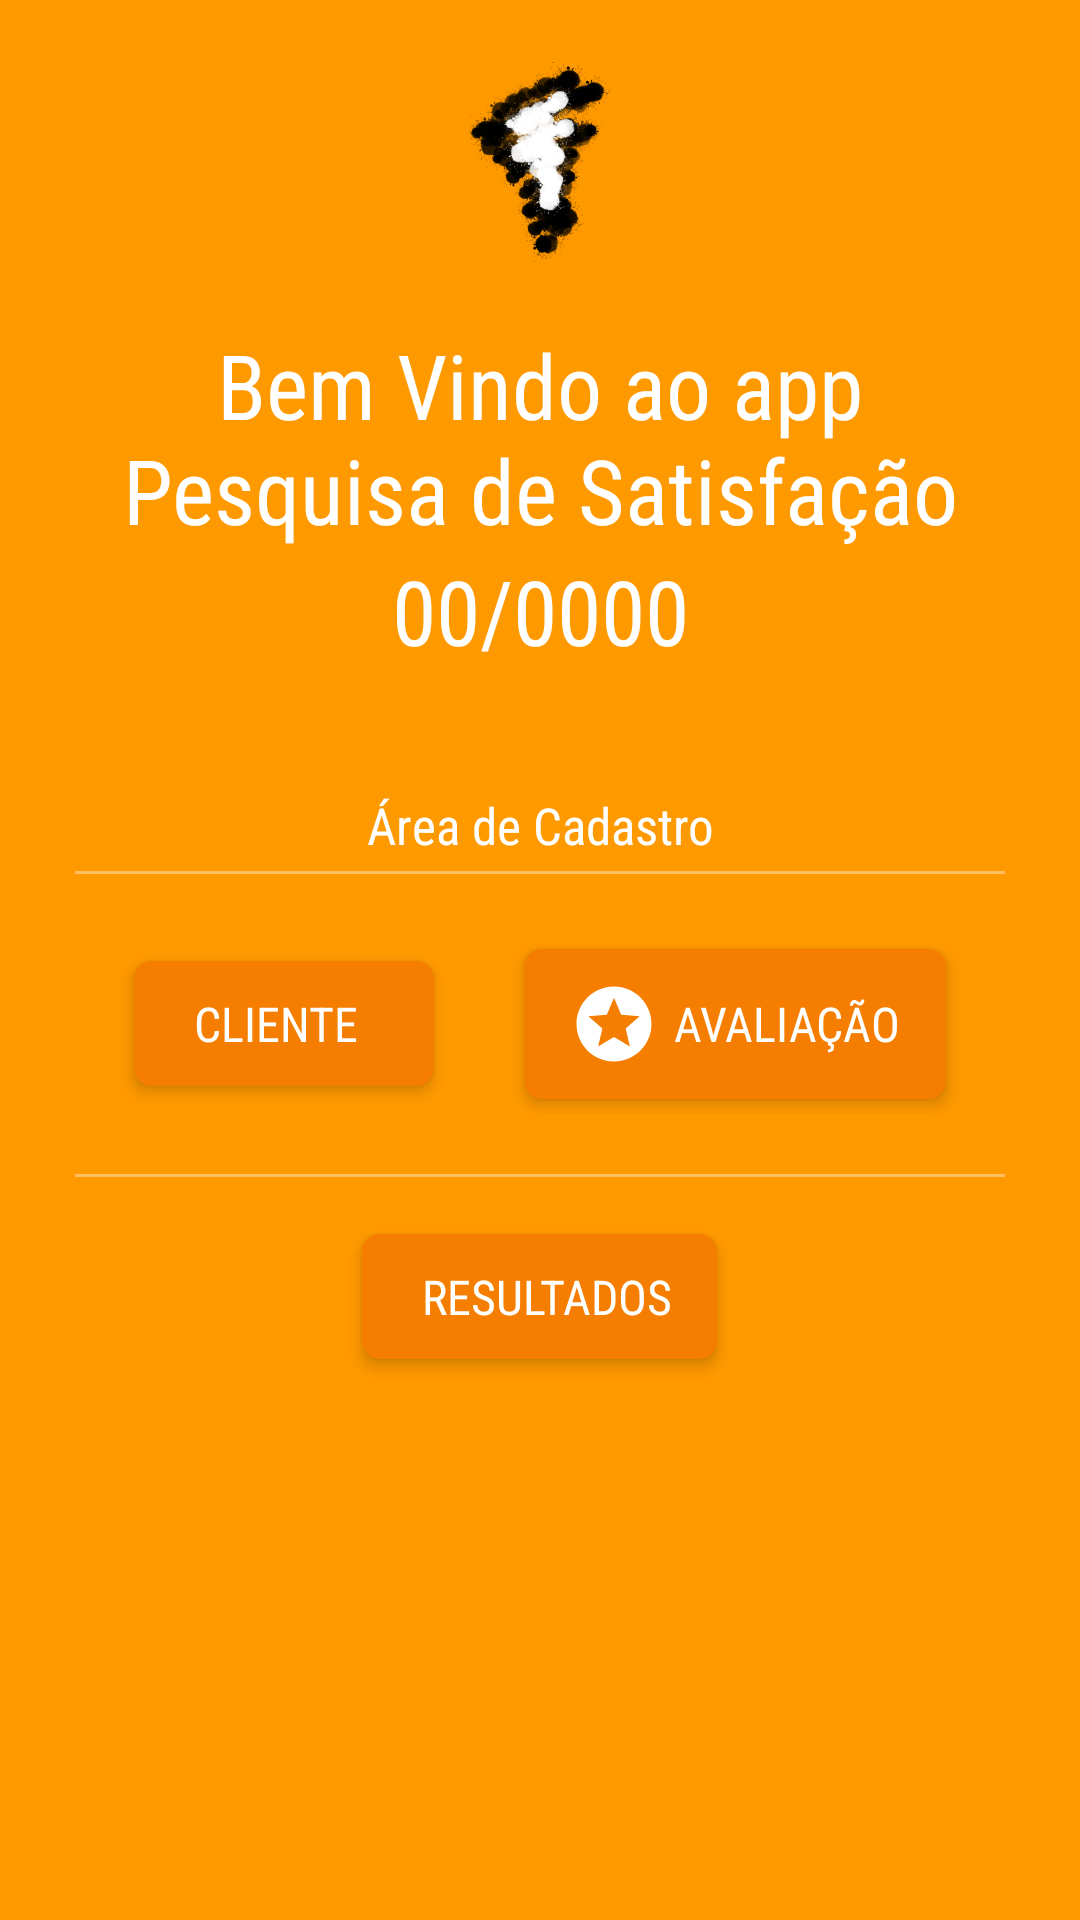

Icon click points for this 1080px×1920px phone screenshot, format (x,y):
star: (614,1024)
